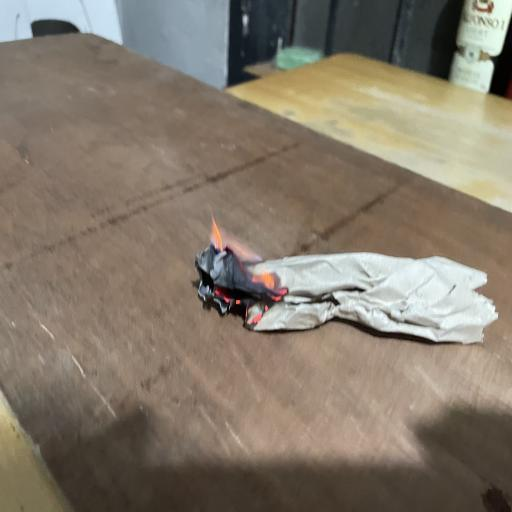fire: (195, 207, 284, 329)
